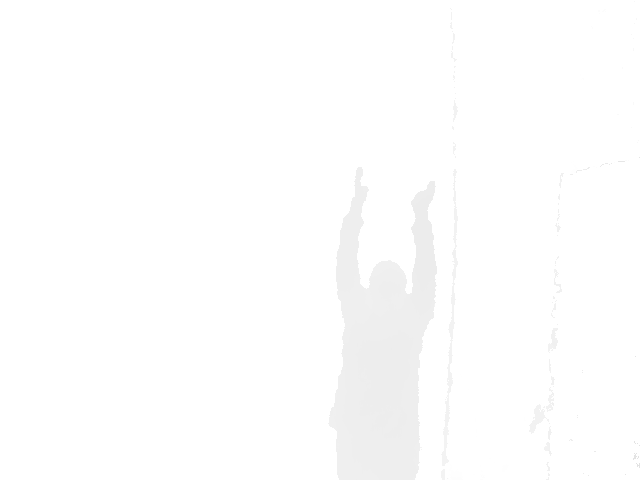hand: (349, 165, 370, 211), (410, 181, 436, 217)
head: (368, 259, 407, 306)
person: (327, 165, 439, 479)
